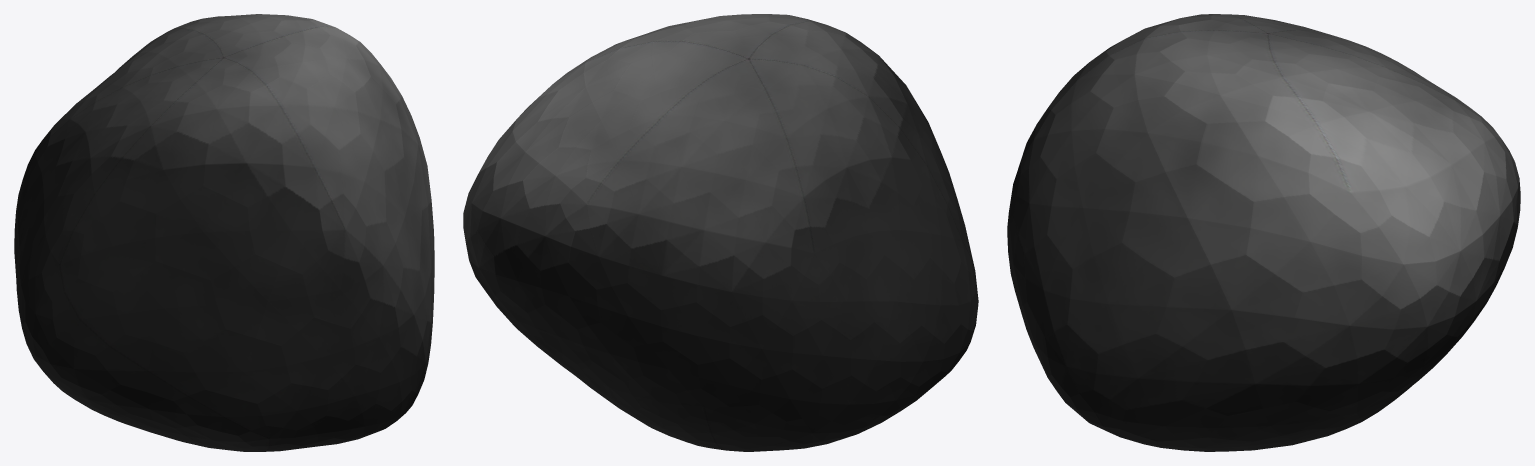
The model's file is Rock1.fbx.
3 renders of one model, left to right at view 1: azimuth 30°, elevation 25°; view 2: azimuth 150°, elevation 25°; view 3: azimuth 270°, elevation 25°, orthographic. The views are drawn at different scales.
Parts seen in each view (by area): view 1: Icosphere; view 2: Icosphere; view 3: Icosphere.
Boxes of the visible parts, x1,y1,x2,y2 form: Icosphere: (14,14,434,451); Icosphere: (463,14,978,451); Icosphere: (1007,14,1520,451).
Size of the model in its own units: 238 by 206 by 242.
Materials: 1 (1 with a texture image).
